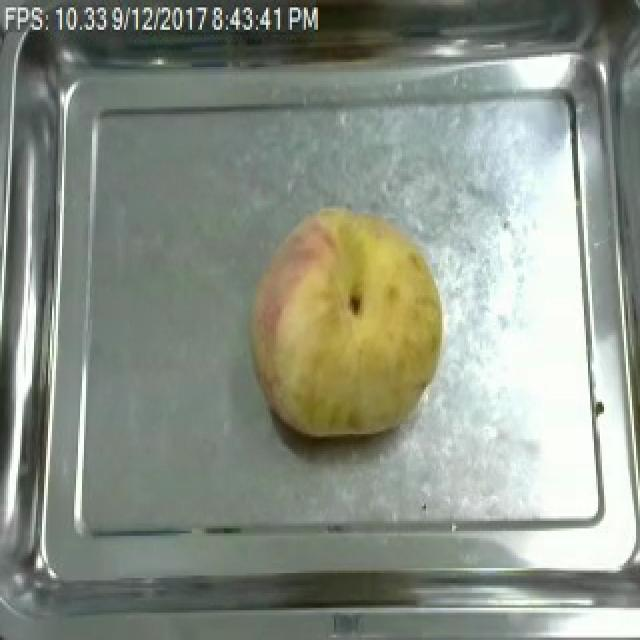Fruit: (238, 198, 456, 446)
